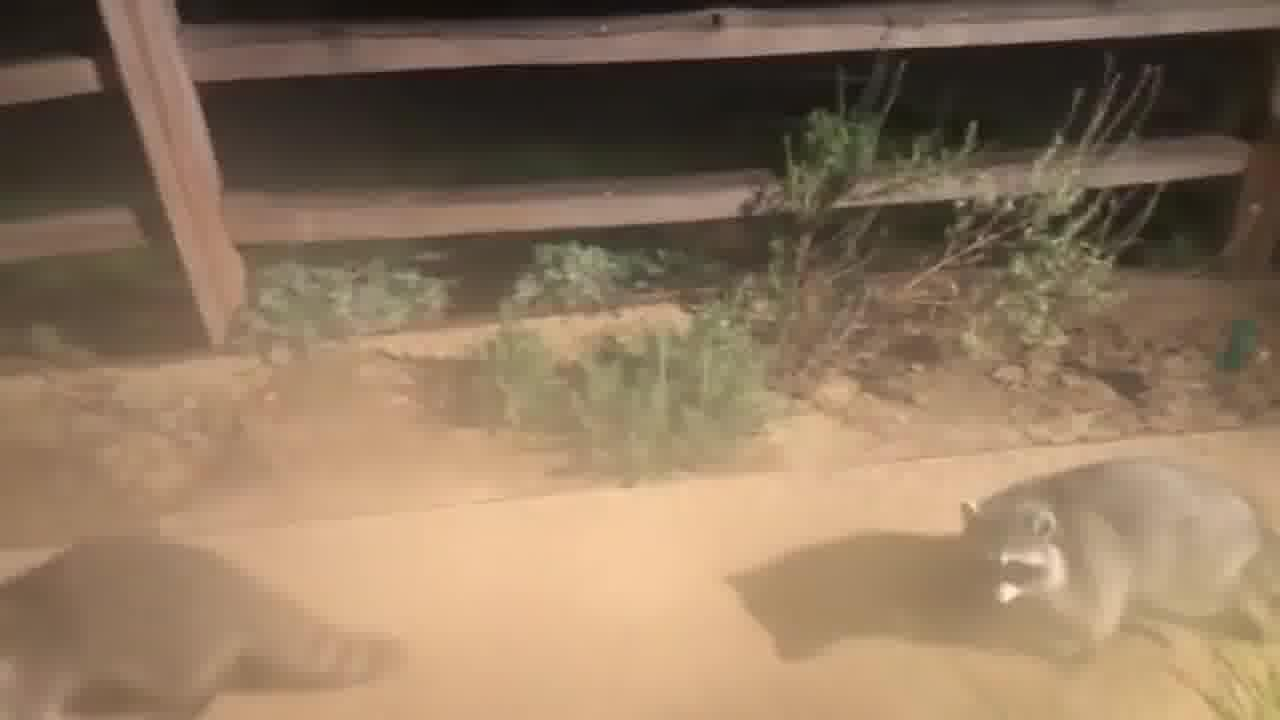raccoon: (0, 526, 416, 720), (951, 460, 1280, 669)
